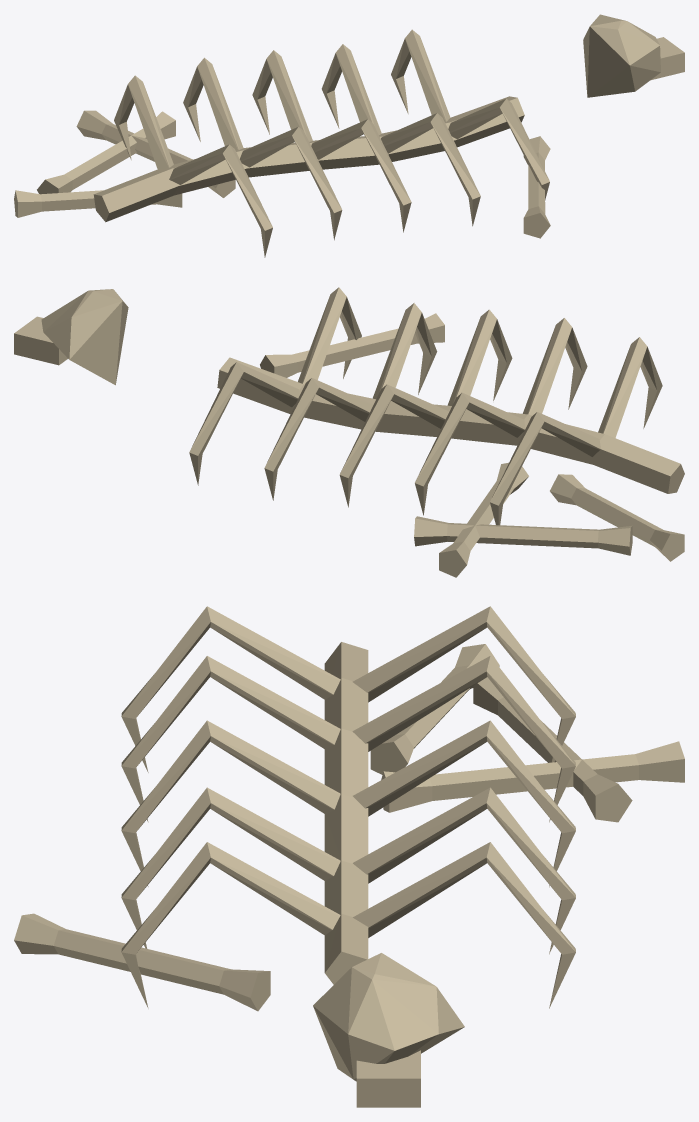
Rendered from huesos.fbx.
The picture shows the model from 3 angles, top to bottom: view 1: azimuth 30°, elevation 25°; view 2: azimuth 150°, elevation 25°; view 3: azimuth 270°, elevation 25°; orthographic projection. The views are drawn at different scales.
Parts seen in each view (by area): view 1: huesos; view 2: huesos; view 3: huesos.
Boxes of the visible parts, box(x1,y1,x2,y2) form: huesos: box(14, 14, 684, 257); huesos: box(14, 287, 684, 577); huesos: box(14, 606, 684, 1107).
Size of the model in its own units: 2.74 by 0.5231 by 1.68.
